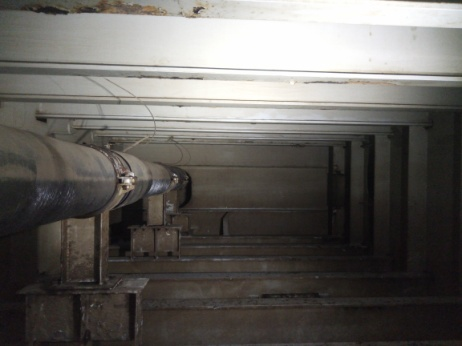corrosion: (21, 0, 204, 22), (136, 72, 211, 85)
